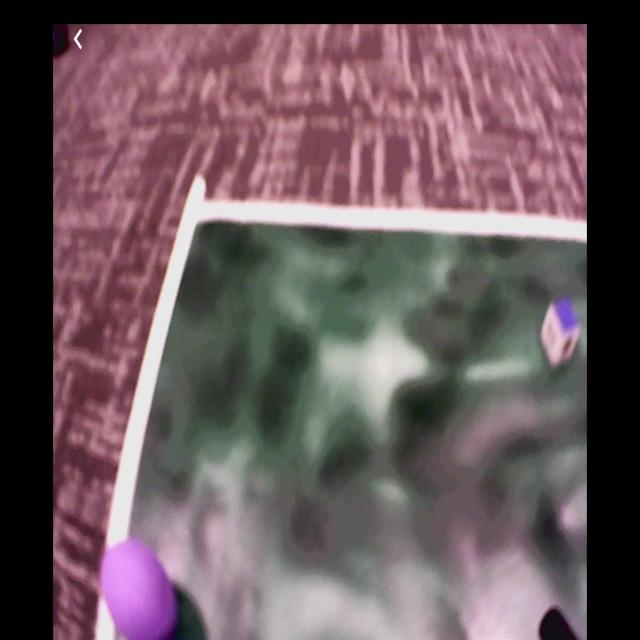ball: (103, 543, 179, 640)
